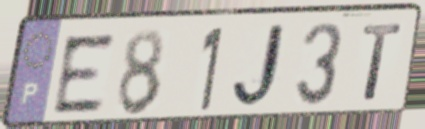1: (199, 24, 225, 113)
3: (293, 21, 344, 110)
8: (113, 26, 171, 117)
E: (51, 30, 118, 117)
J: (229, 20, 293, 113)
T: (359, 21, 406, 104)
